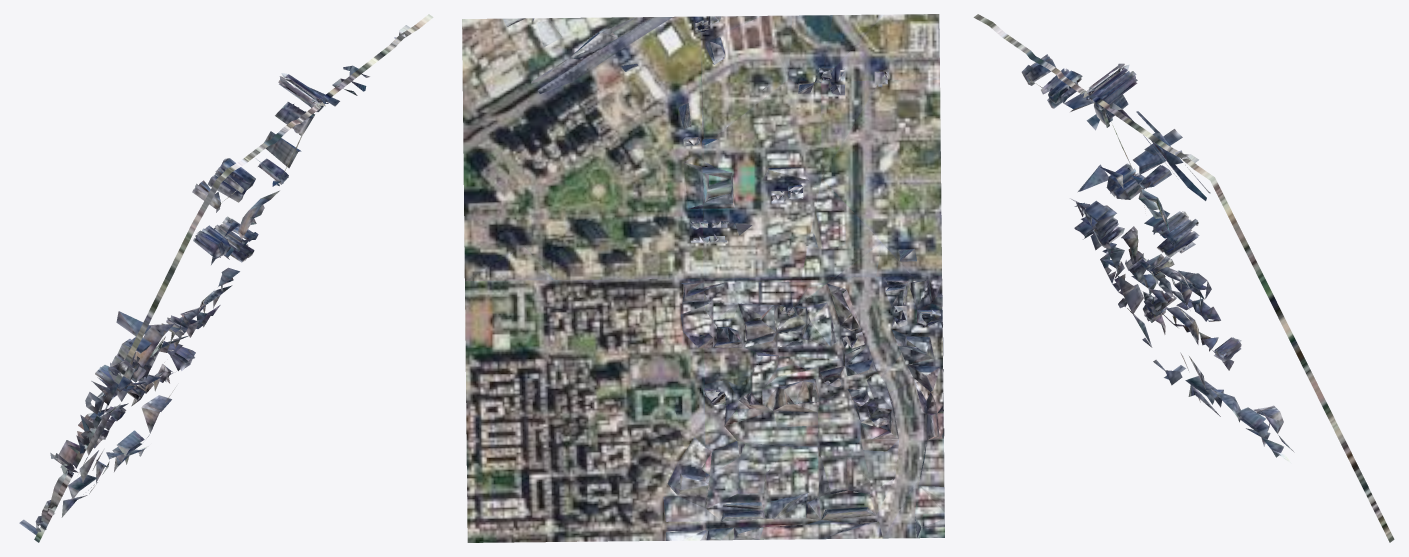
3 renders of one model, left to right at view 1: azimuth 30°, elevation 25°; view 2: azimuth 150°, elevation 25°; view 3: azimuth 270°, elevation 25°, orthographic. The views are drawn at different scales.
Size of the model in its own units: 1243 by 1160 by 1030.
Materials: 2 (2 with a texture image).
